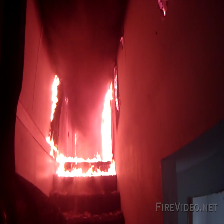fire_h: (56, 161, 117, 176), (102, 82, 113, 160), (55, 149, 102, 163), (50, 74, 60, 120)
fire_l: (45, 136, 59, 158), (114, 75, 119, 109), (74, 134, 77, 155), (162, 8, 166, 16)
